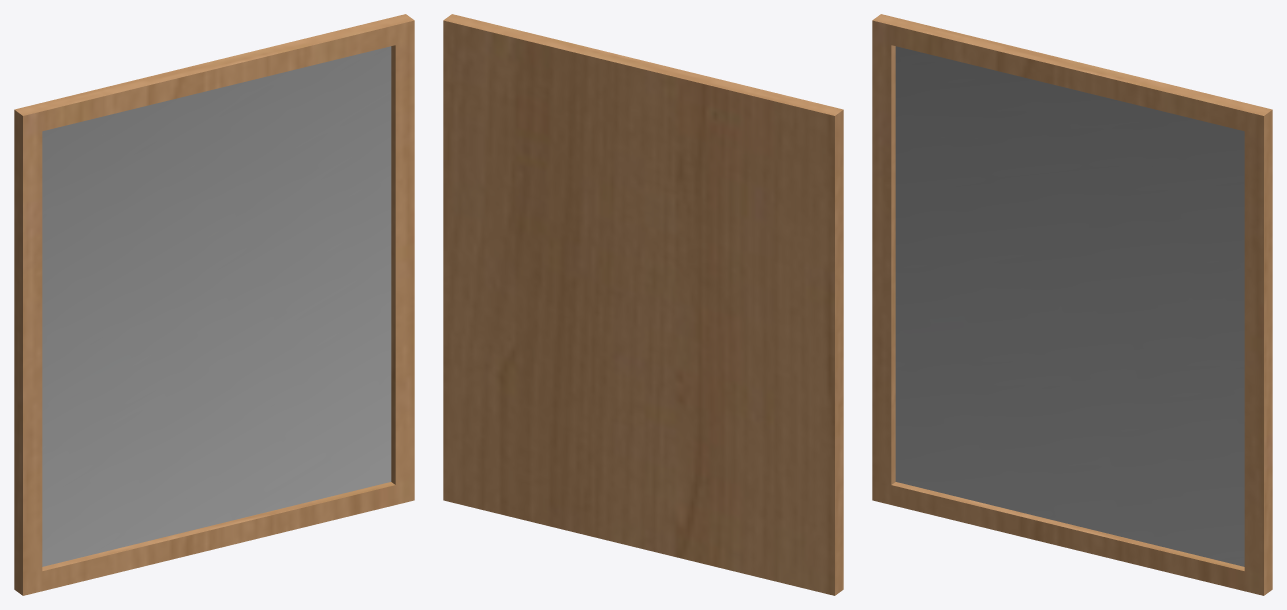
The model's file is SM_Order_01.fbx.
3 views of the same model, side by side, from view 1: azimuth 30°, elevation 25°; view 2: azimuth 150°, elevation 25°; view 3: azimuth 330°, elevation 25° (orthographic).
Visible parts, largest first — view 1: SM_Order_01; view 2: SM_Order_01; view 3: SM_Order_01.
Part boxes in pixels (x1,y1,x2,y2): SM_Order_01: (14, 14, 414, 595); SM_Order_01: (443, 14, 843, 595); SM_Order_01: (872, 14, 1272, 595).
Bounding box in the file's own units: 102 × 120 × 4.
